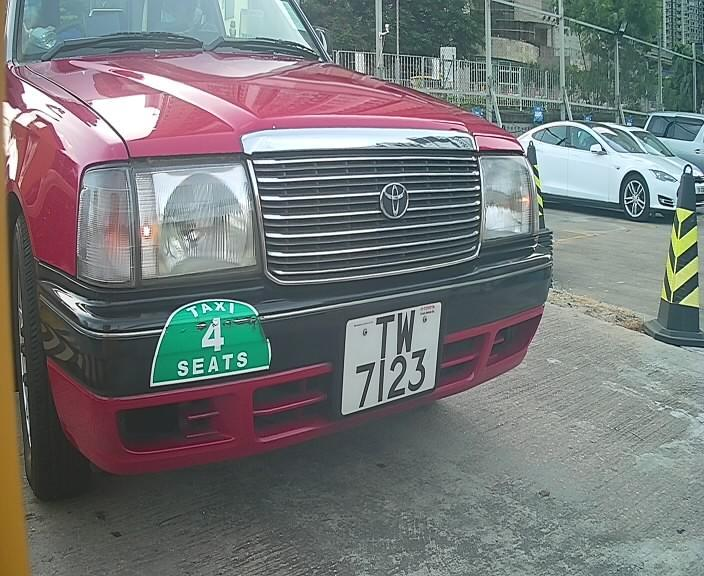taxi: (2, 1, 567, 506)
taxi_mark: (125, 286, 299, 391)
